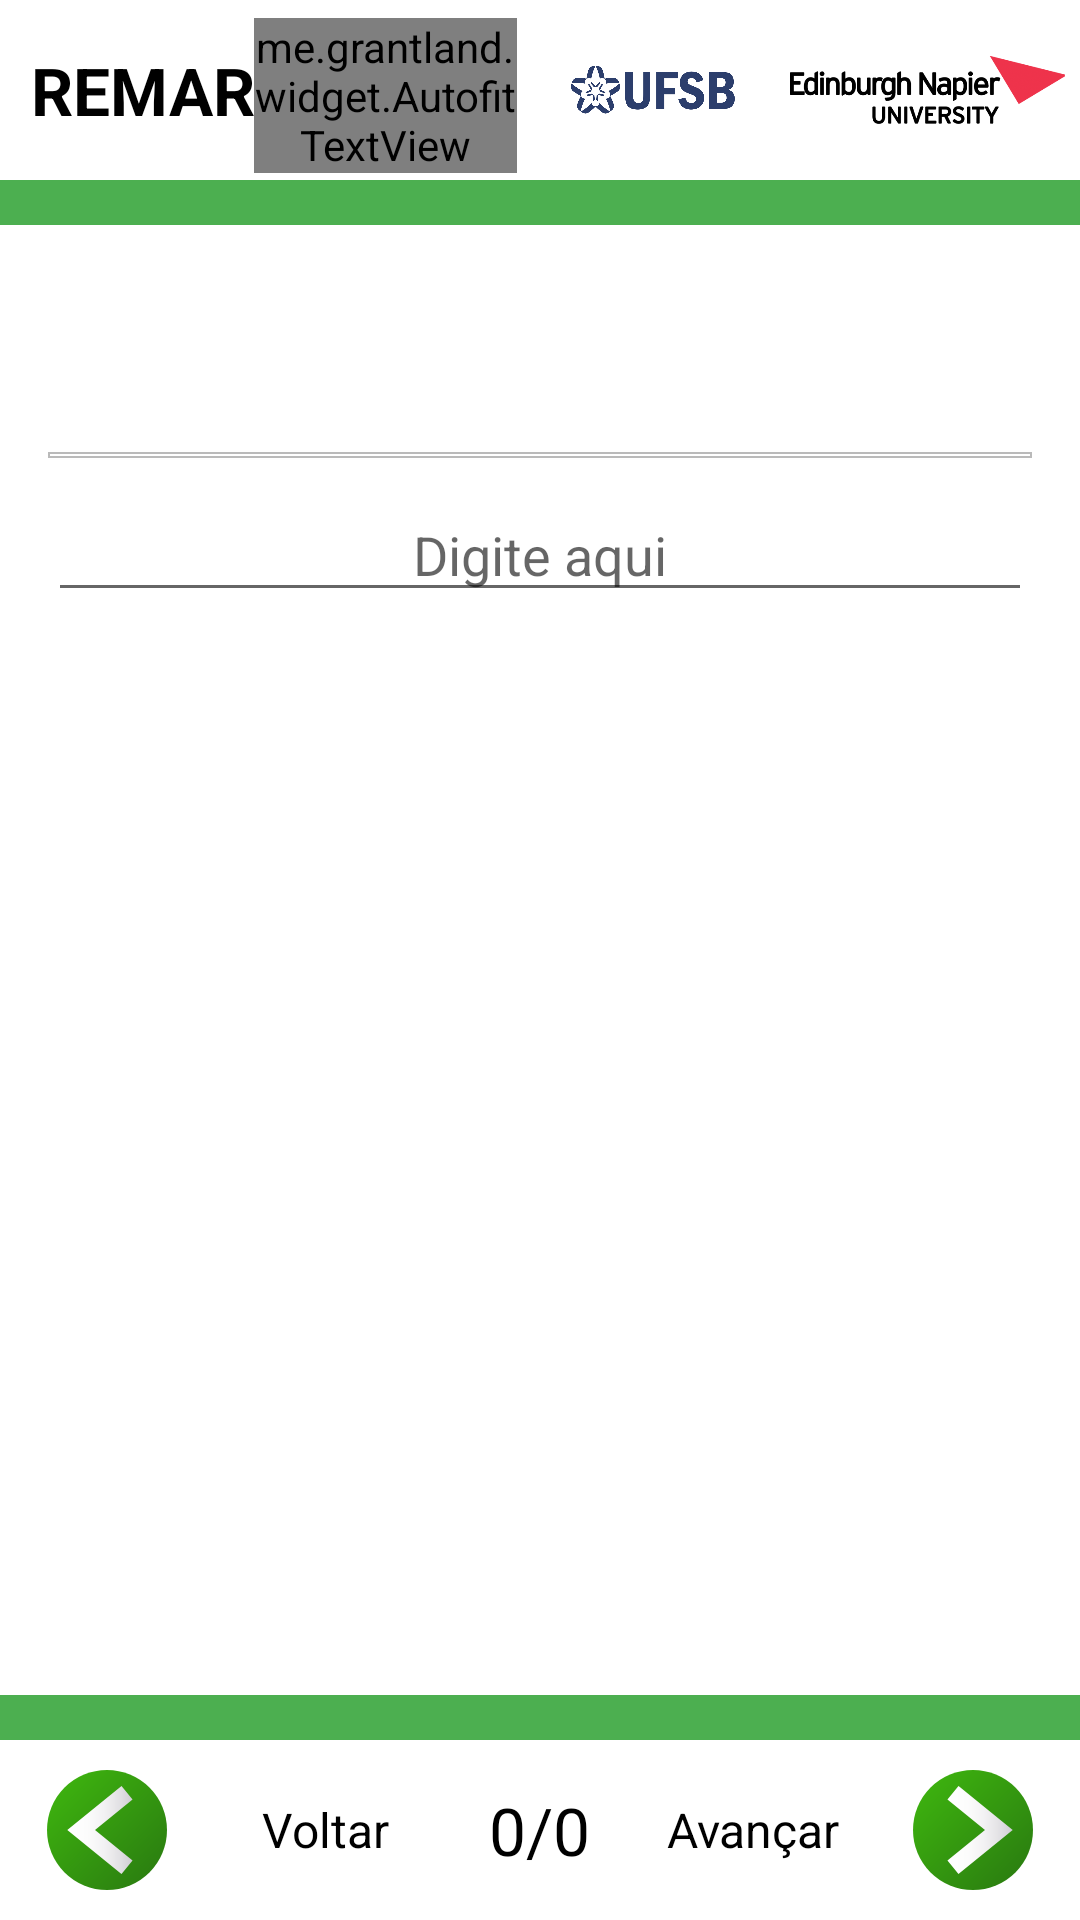

Locate icon controls on the screen. Image size 1080×1920, boxes as (x1, y1, x2, y2).
back state: (47, 1770, 167, 1890)
next state: (913, 1770, 1033, 1890)
